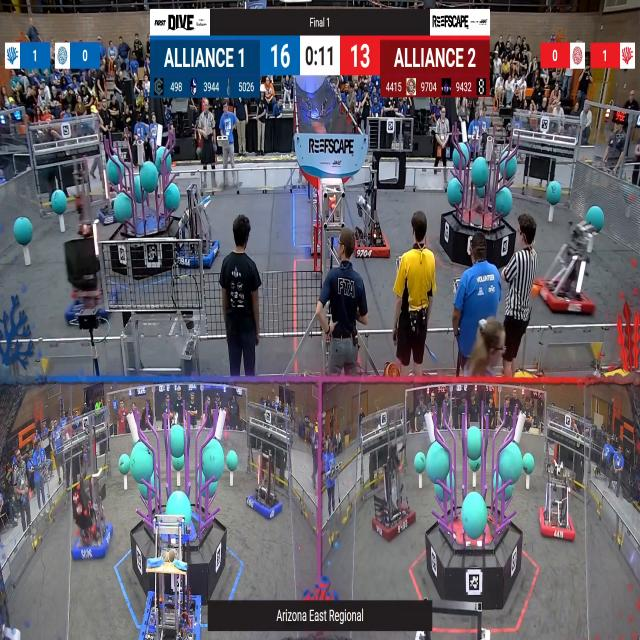scoreboard: (150, 36, 491, 97)
